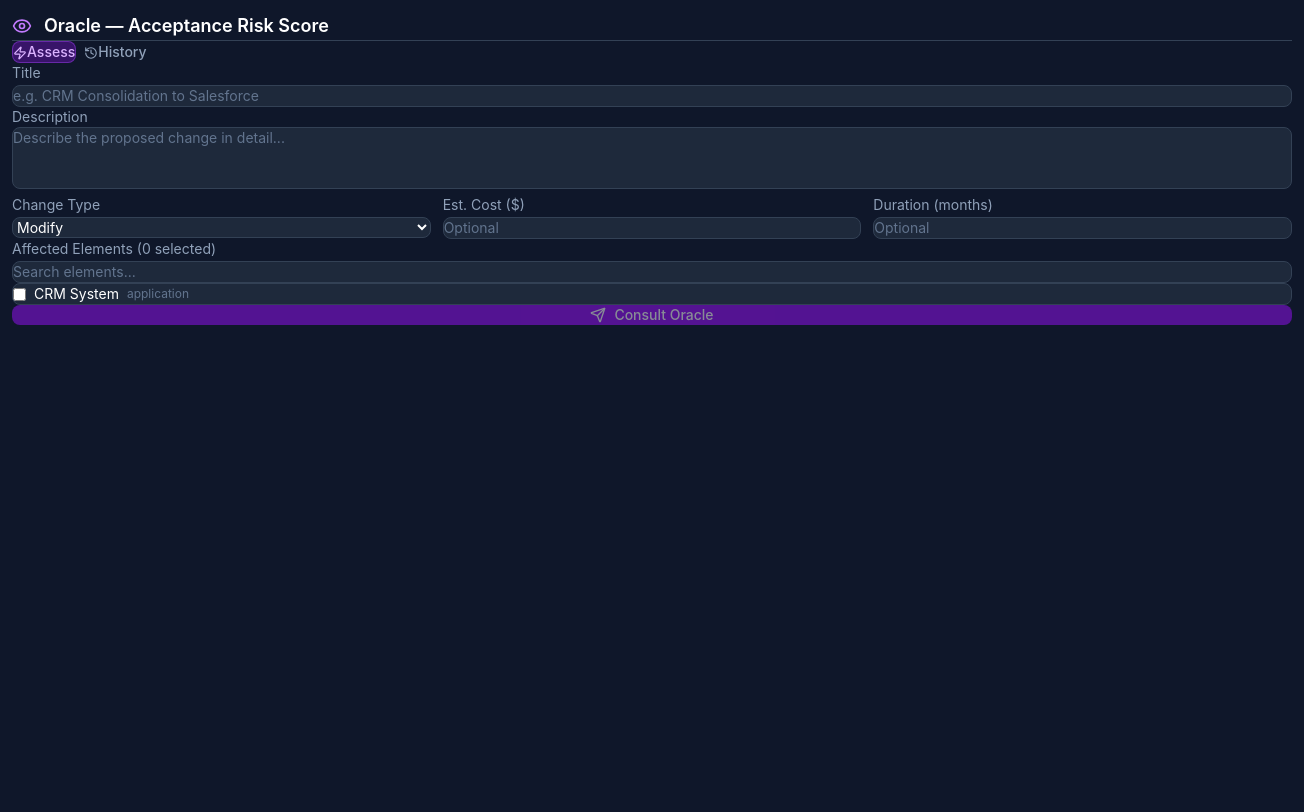
Test: OraclePanel — Evidence / Audit section (THE-423 Task 15) › expand lazy-fetches the trace and shows model/createdAt, rawResponse behind "Show raw"
Type "Test Proposal" into the field with placeholder "e.g. CRM Consolidation to Salesforce" at (652, 96), box [12,85,1292,107]
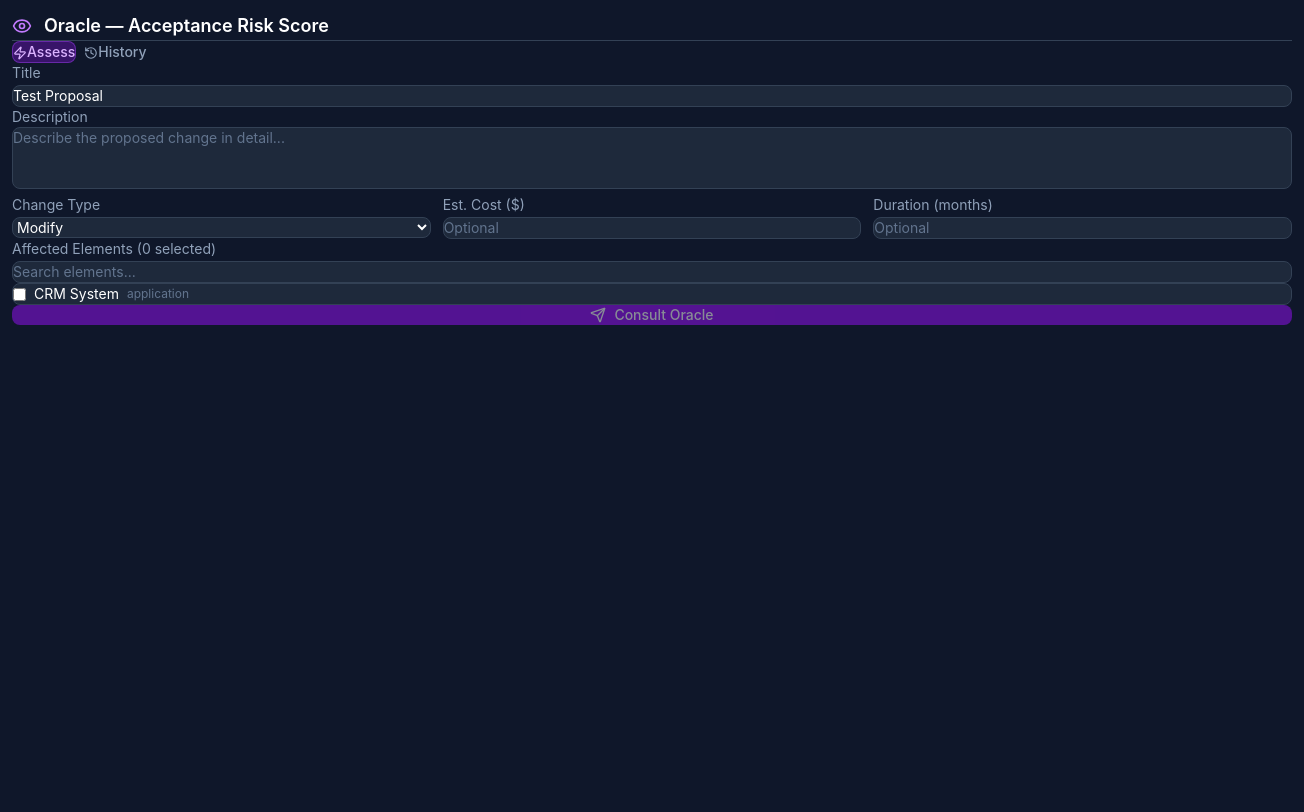
Type "A description long enough." into the text box with placeholder "Describe the proposed change in detail..." at (652, 158), box [12,127,1292,189]
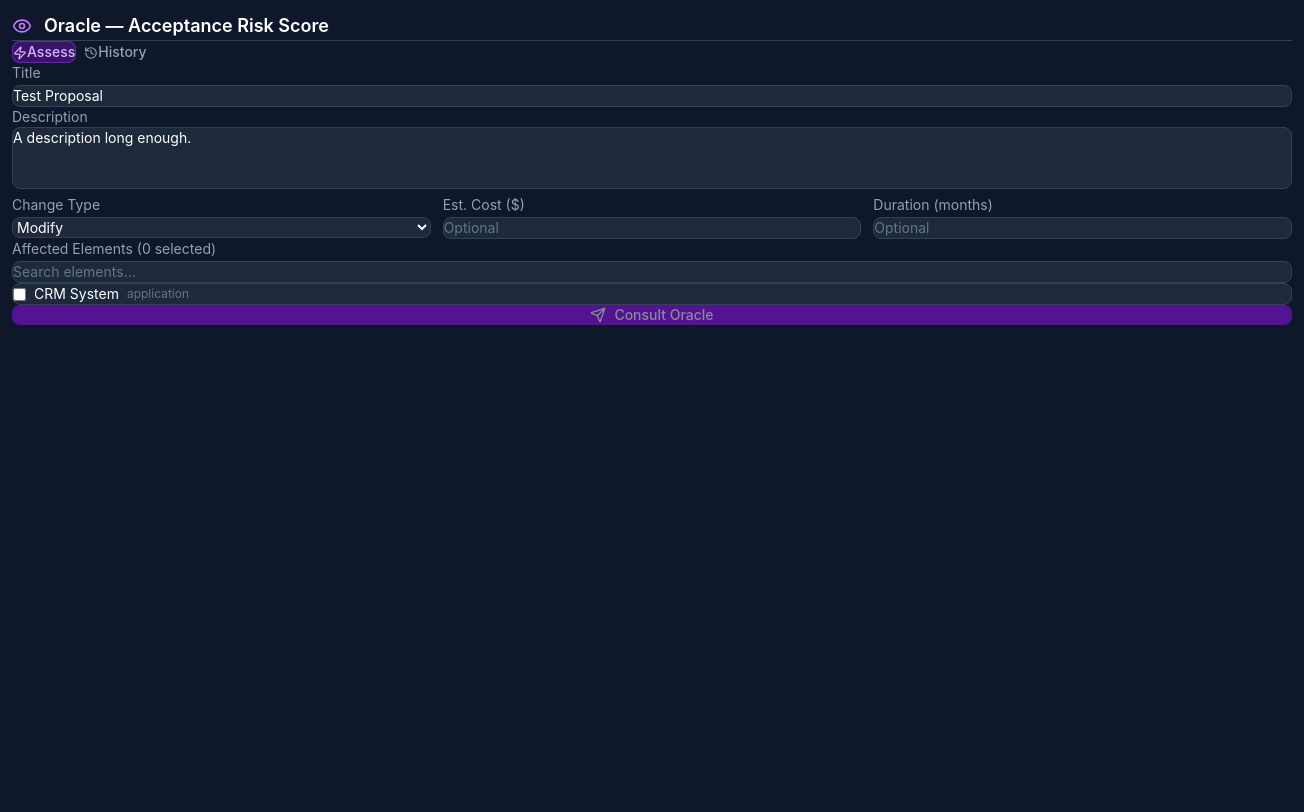
Click the text "CRM System" at (76, 294), box [34,284,119,304]
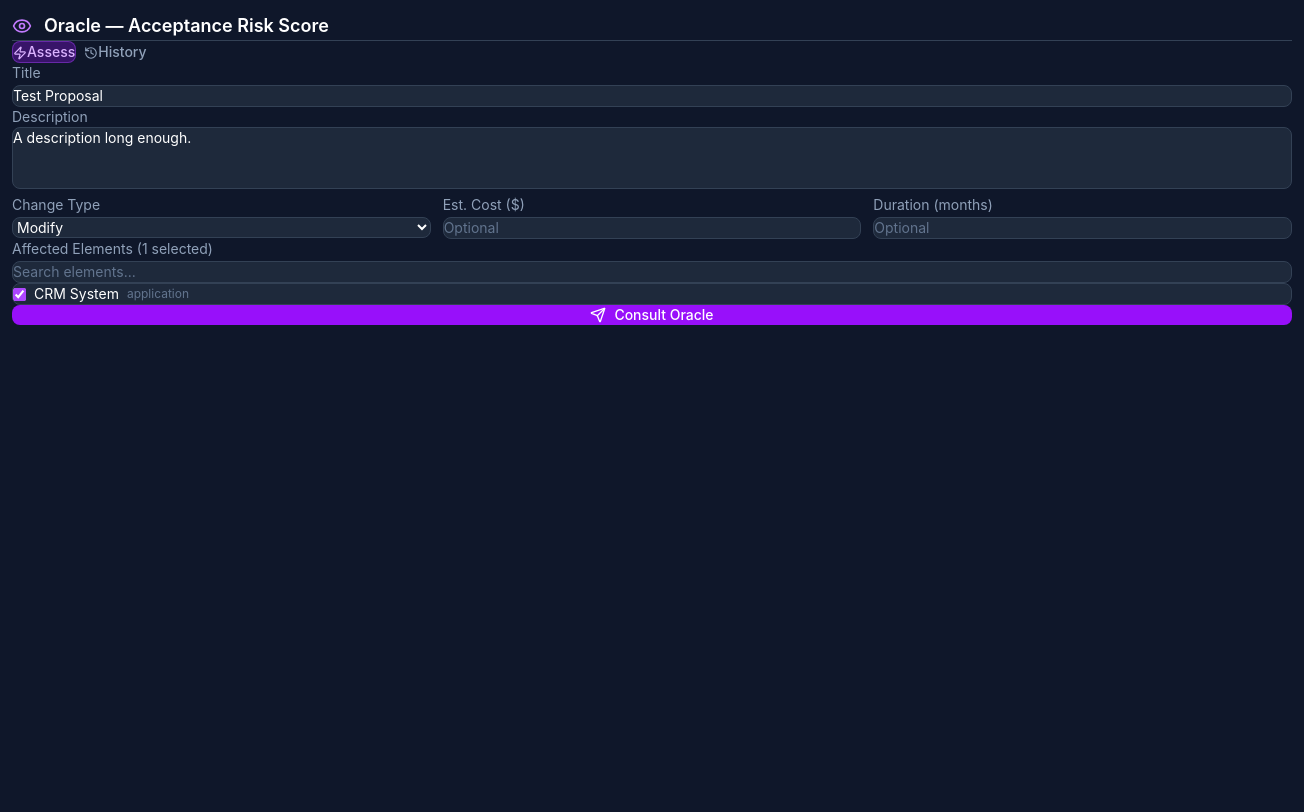
Click the button "Consult Oracle" at (652, 315), box [12,305,1292,325]
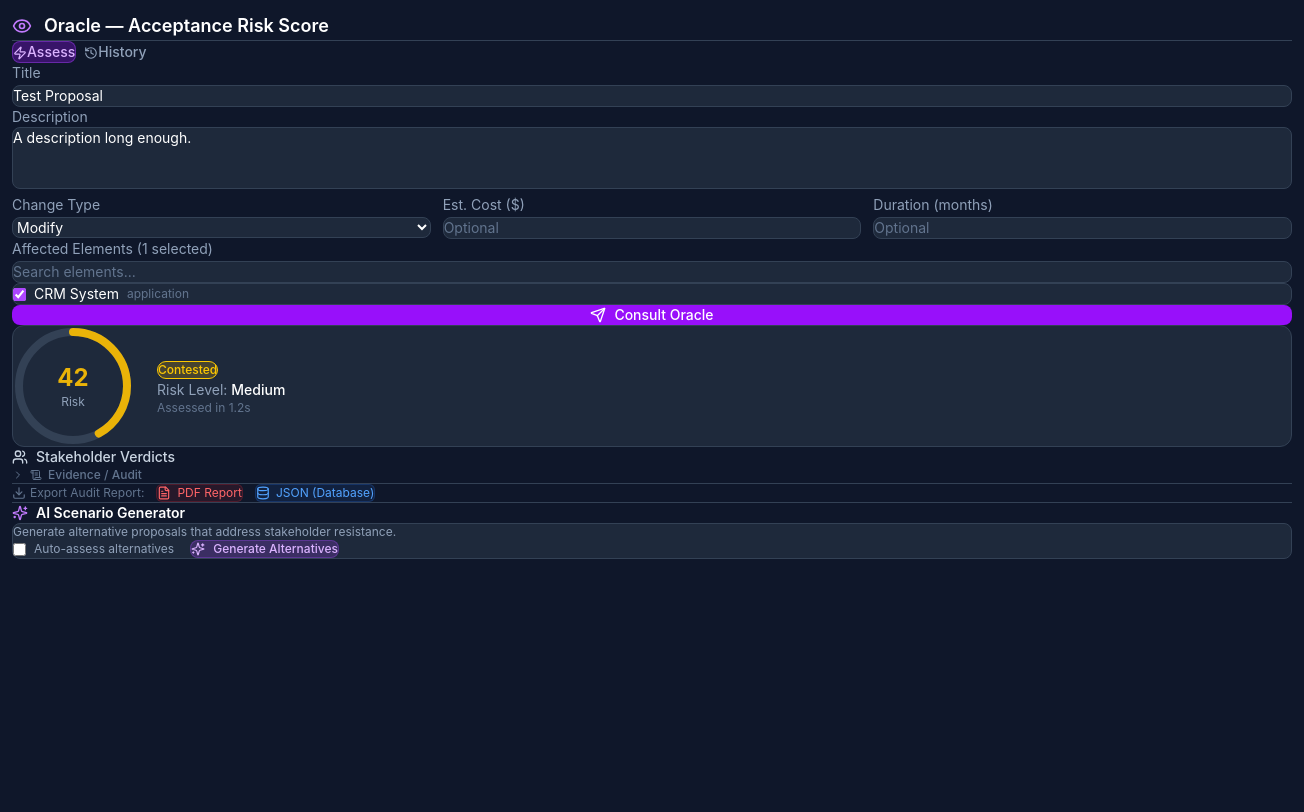
Click the button "Evidence / Audit" at (77, 475), box [12,467,142,483]
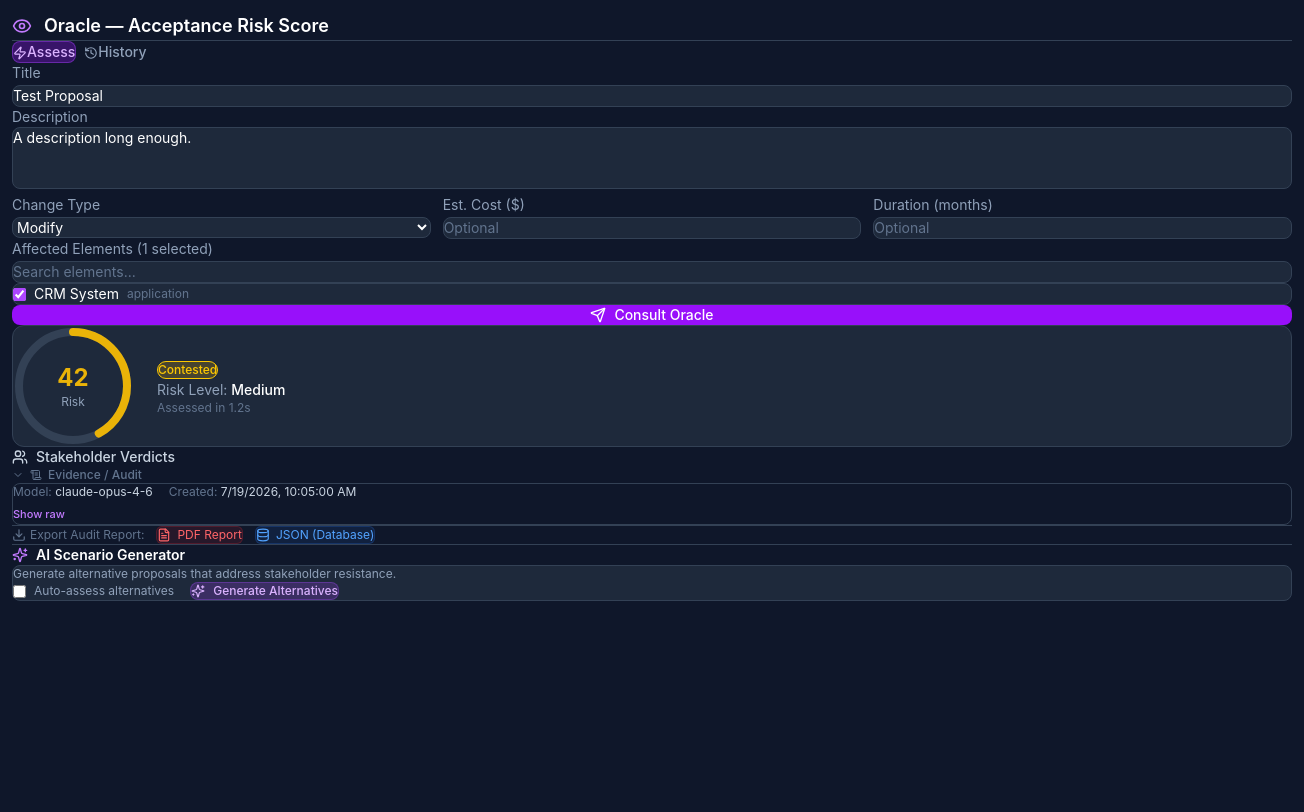
Expected: the text "You are a stakeholder persona" is not shown
Expected: the text "claude-opus-4-6" is shown, [55,484,153,499]
Expected: the text "7/19/2026, 10:05:00 AM" is shown, [221,484,356,499]
Click the button "Show raw" at (39, 514), box [13,506,65,522]
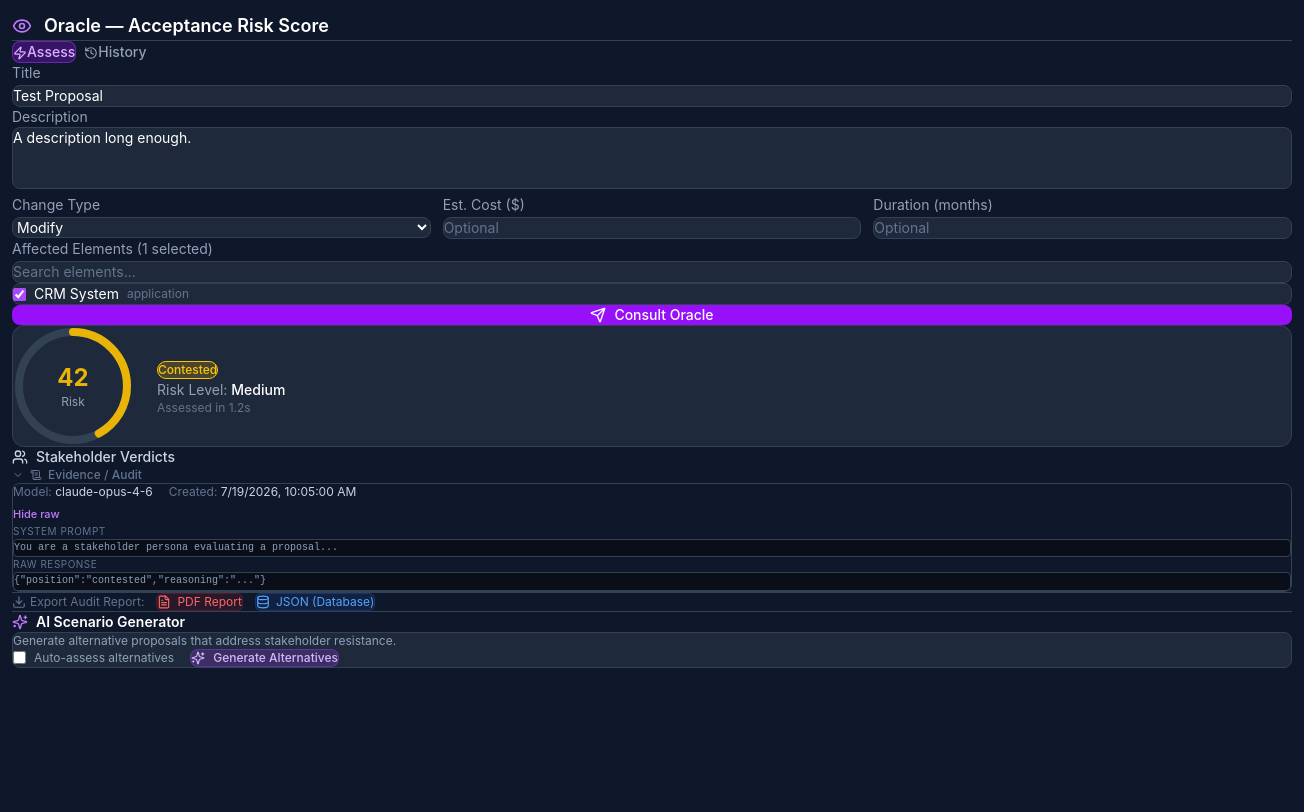
Expected: the text "You are a stakeholder persona evaluating a proposal..." is shown, [13,539,1291,557]
Expected: the text "{\"position\":\"contested\",\"reasoning\":\"...\"}" is shown, [13,572,1291,591]
